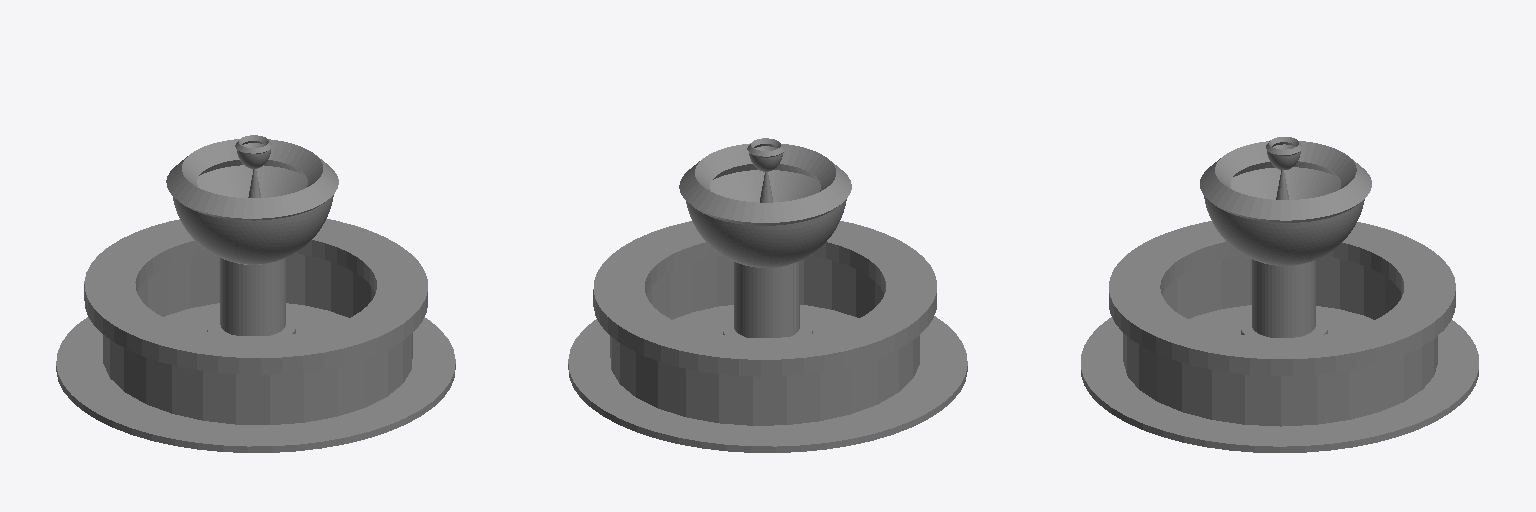
File: fuente.obj
3 renders of one model, left to right at view 1: azimuth 30°, elevation 25°; view 2: azimuth 150°, elevation 25°; view 3: azimuth 270°, elevation 25°, orthographic.
Parts seen in each view (by area): view 1: Tube001, Circle001, Cylinder001, GeoSphere001, Torus001, Cylinder003, Circle002; view 2: Tube001, Circle001, Cylinder001, GeoSphere001, Torus001, Cylinder003, Circle002; view 3: Tube001, Circle001, Cylinder001, GeoSphere001, Torus001, Cylinder003, Circle002.
Part boxes in pixels (x1,y1,x2,y2): Tube001: (84, 219, 427, 374); Circle001: (103, 253, 412, 424); Cylinder001: (56, 317, 455, 452); GeoSphere001: (173, 165, 333, 264); Torus001: (166, 139, 338, 220); Cylinder003: (220, 258, 285, 335); Circle002: (164, 303, 348, 333); Tube001: (593, 221, 936, 376); Circle001: (610, 256, 919, 425); Cylinder001: (568, 316, 967, 452); GeoSphere001: (686, 170, 846, 267); Torus001: (679, 143, 851, 225); Cylinder003: (734, 261, 799, 337); Circle002: (673, 305, 858, 334); Tube001: (1109, 221, 1455, 375); Circle001: (1123, 255, 1437, 426); Cylinder001: (1081, 317, 1478, 452); GeoSphere001: (1204, 167, 1364, 265); Torus001: (1200, 141, 1371, 222); Cylinder003: (1252, 259, 1315, 337); Circle002: (1189, 305, 1373, 334).
Bounding box in the file's own units: 59.16 × 36.83 × 58.97.